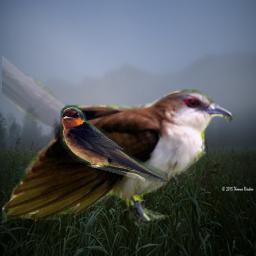Cuckoo: (2, 1, 236, 230)
Swallow: (60, 105, 168, 182)
